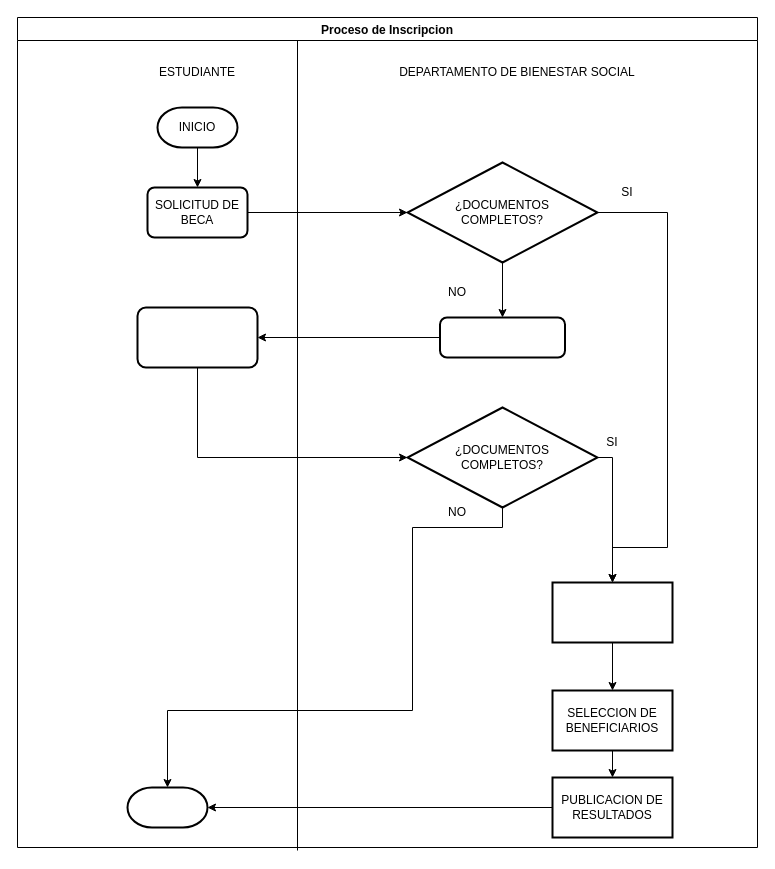
Image size: 775x869. Some labels were removed from this diagram. The centre of each missing label's shape, as x and y in pixels:
"CORRECCION DE ERRORES" belongs at [197,337].
"FIN" belongs at [167,807].
"PUBLICACION DE CORRECCIONES" belongs at [502,337].
"RECISION DE DOCUMENTOS" belongs at [612,612].
